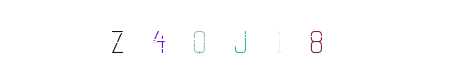1: (202, 0, 282, 80)
4: (119, 0, 199, 80)
8: (237, 0, 317, 80)
J: (190, 0, 270, 80)
Q: (180, 0, 260, 80)
Z: (77, 0, 157, 80)
